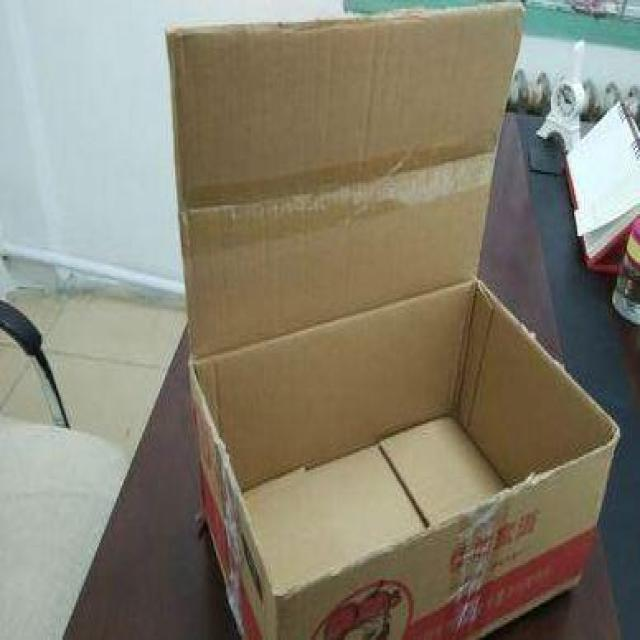cardboard: (165, 10, 617, 640)
